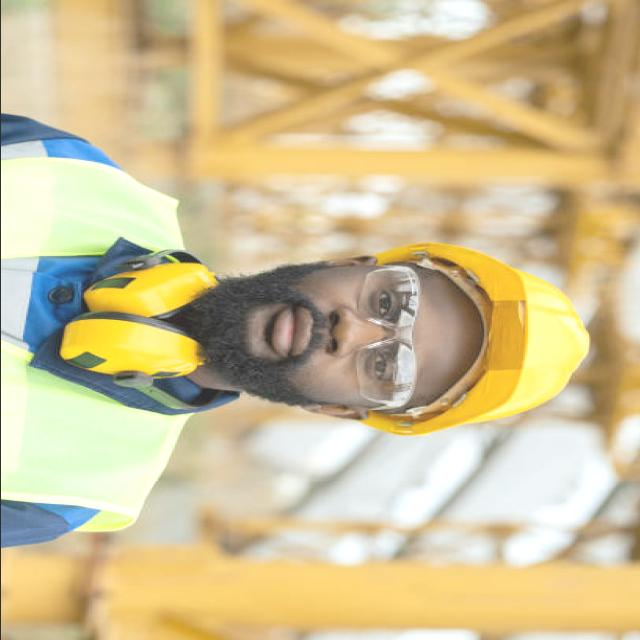Ear Muffs: (56, 242, 260, 428)
Hard Hat: (360, 238, 596, 452)
Reflective Vest: (0, 142, 207, 544)
Safety Glasses: (344, 252, 429, 428)
